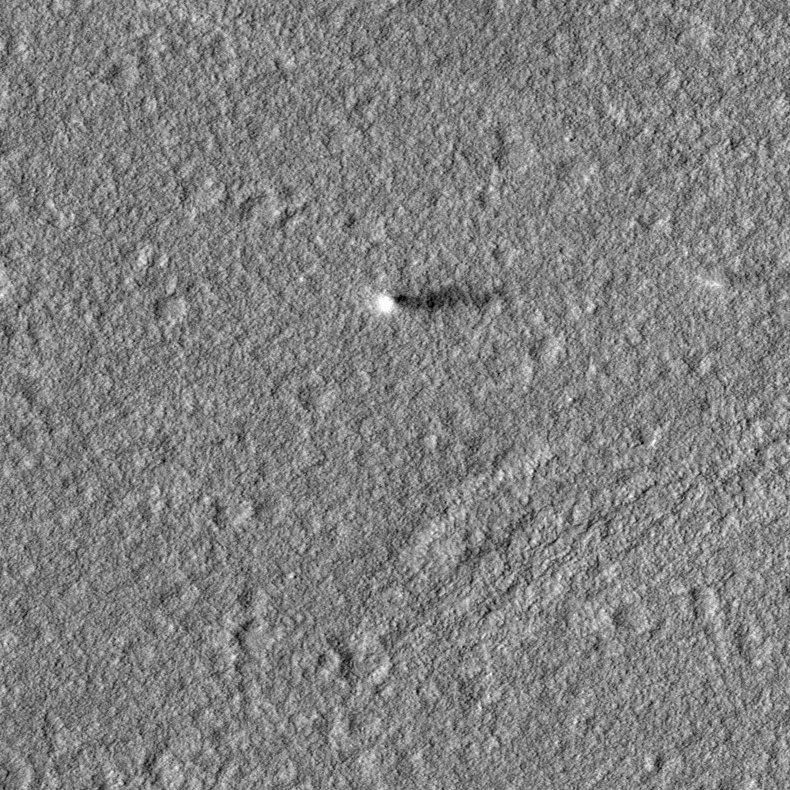dust_devil: (370, 284, 505, 315)
